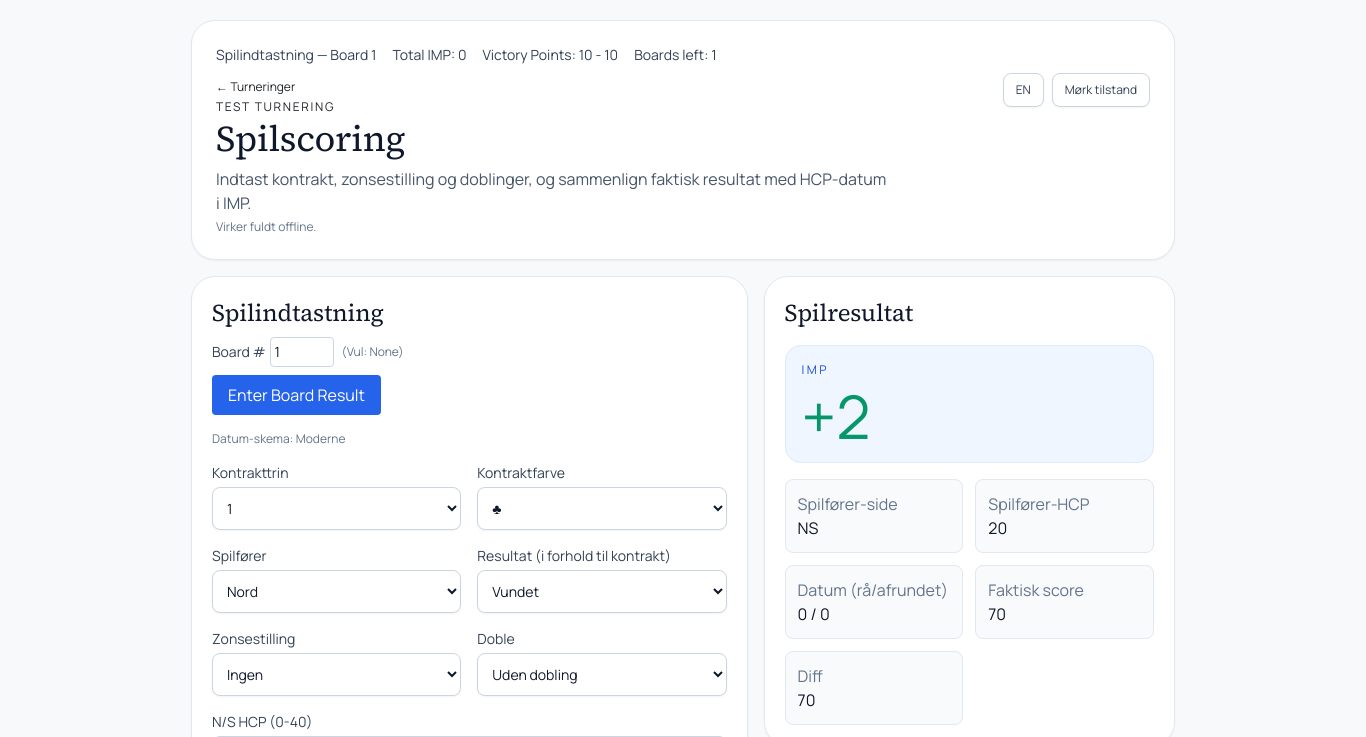
BoardEntry › uses popup actions for extending and backing to tournaments
Click the button "Enter Board Result".
click(296, 395)  # box [212,375,381,415]
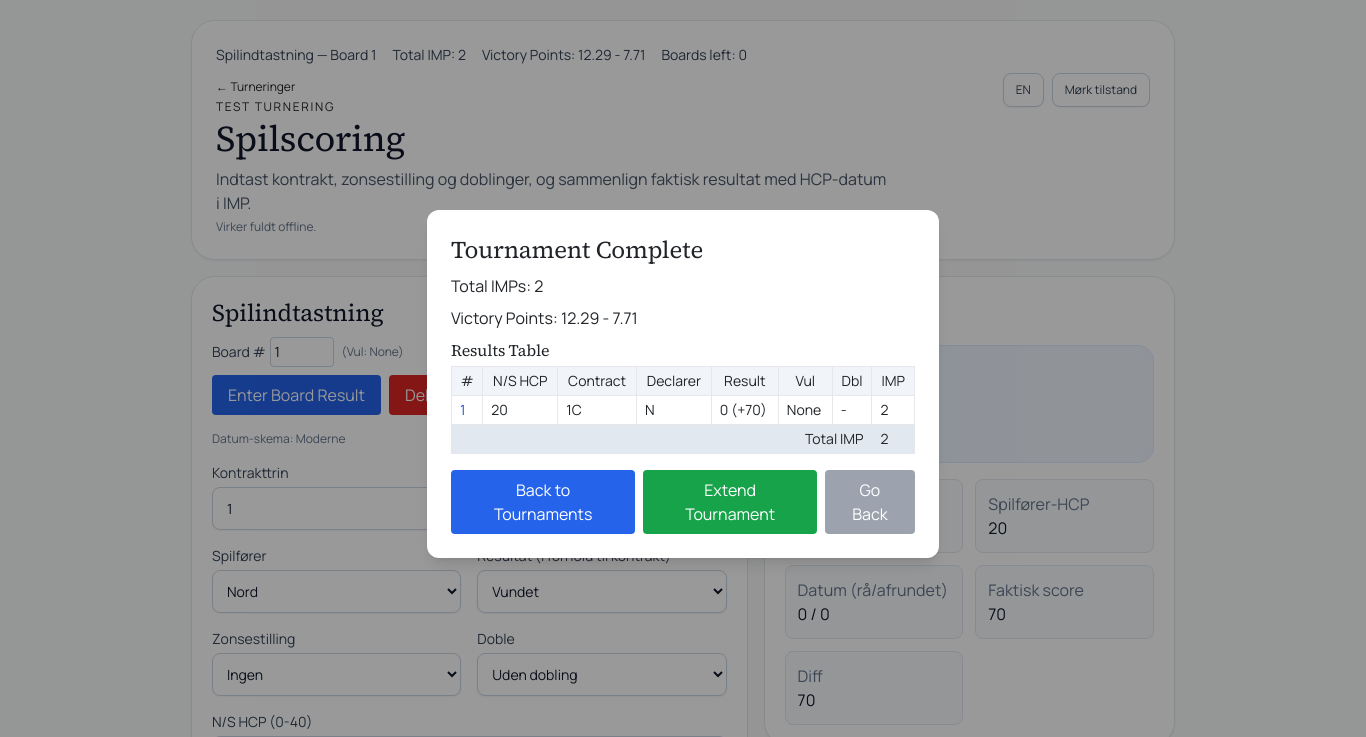
Click the button "Back to Tournaments".
click(543, 502)  # box [451,470,635,534]
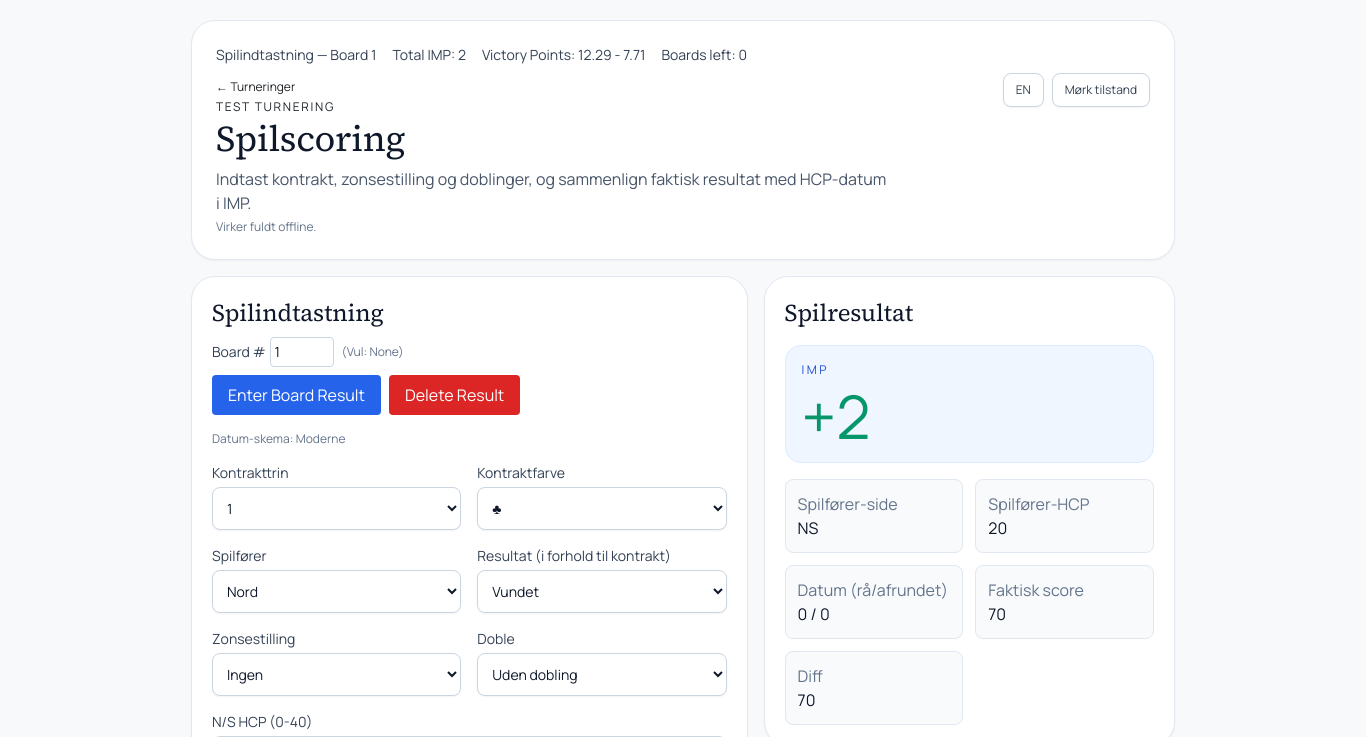
Click the button "Enter Board Result".
click(296, 395)  # box [212,375,381,415]
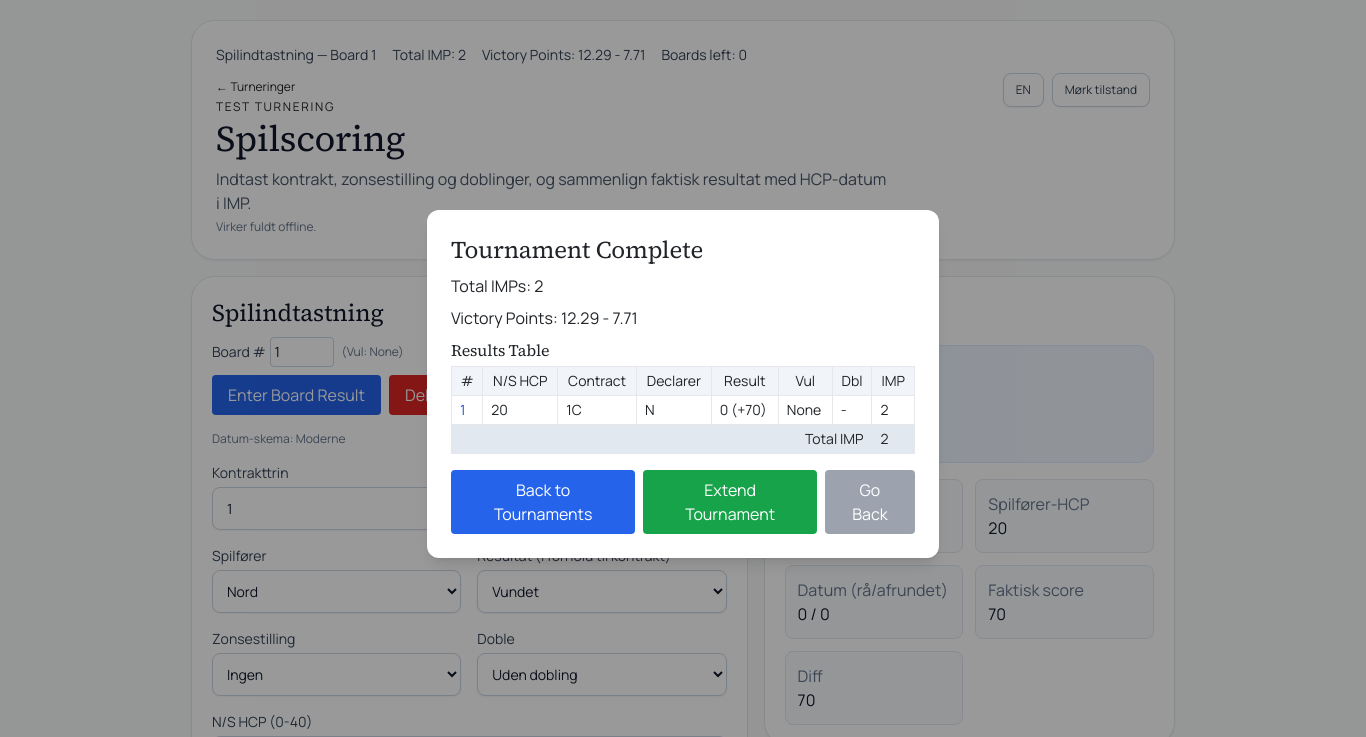
Click the button "Extend Tournament".
click(730, 502)  # box [643,470,817,534]
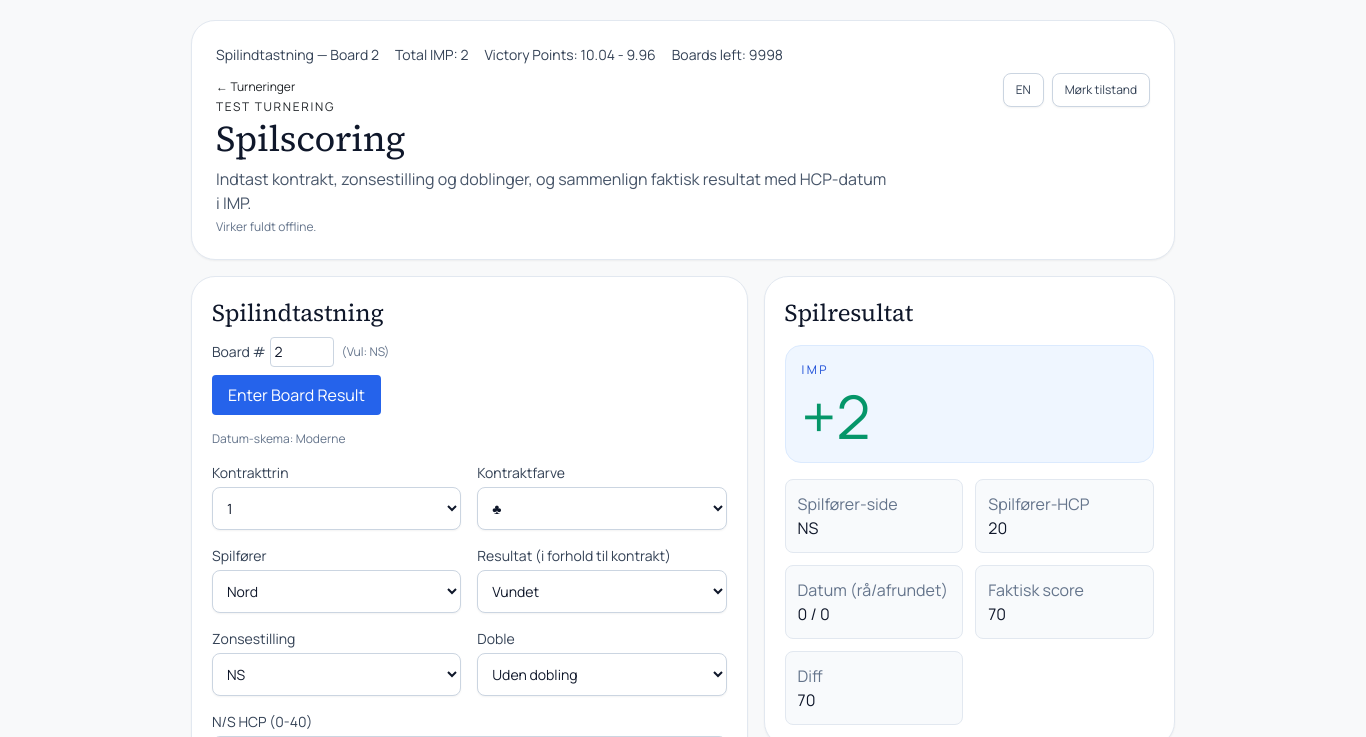
Expected: the heading "Tournament Complete" is gone
Expected: the number field showing "2" is shown, [270,337,334,367]
